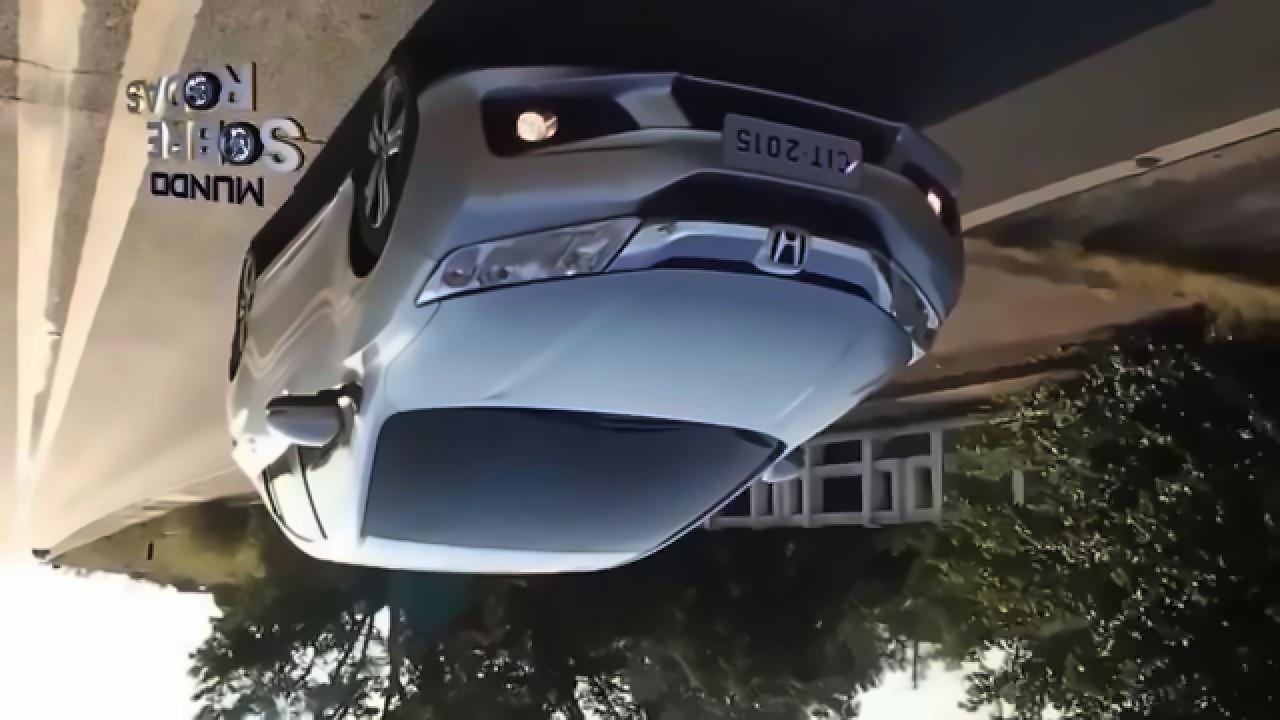Car hood: (381, 265, 918, 456)
Fender - -F-L-: (341, 163, 446, 440)
Front bumper: (398, 53, 986, 283)
Headlight - -L-: (414, 208, 650, 317)
Headlight - -R-: (868, 248, 951, 373)
Passenger-s door - -F-L-: (293, 203, 370, 550)
Passenger-s door - -R-L-: (229, 230, 323, 549)
Side bumper - -L-: (249, 168, 364, 297)
Side mirror - -L-: (259, 383, 358, 466)
Side mirror - -R-: (754, 451, 811, 491)
